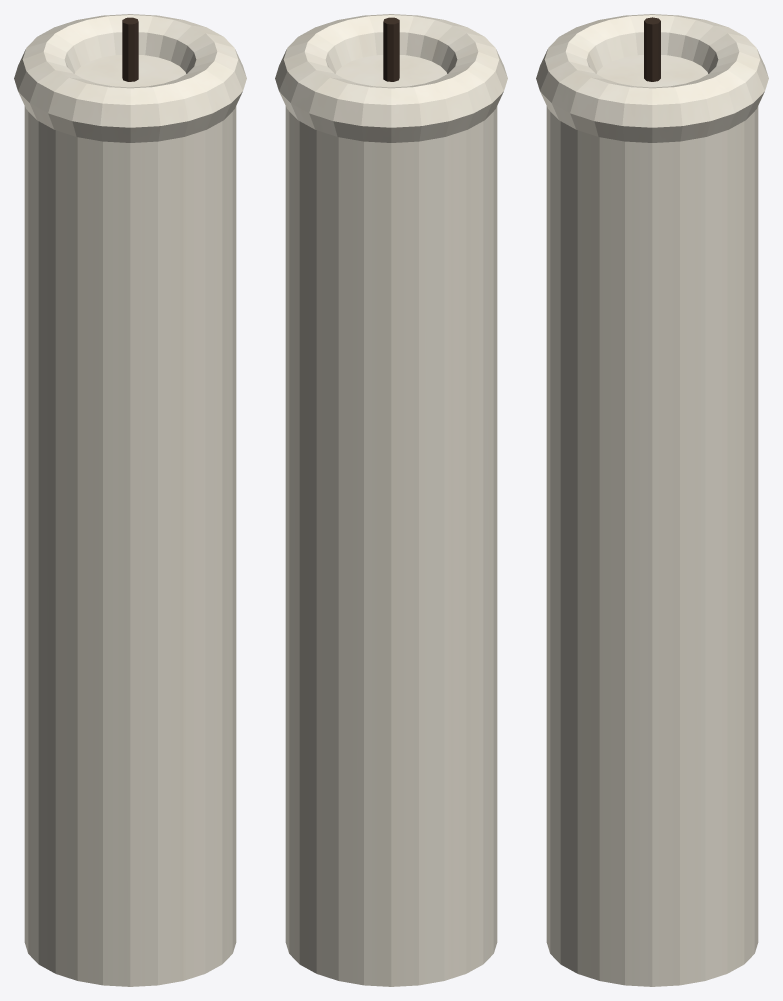
File: candle_tall.glb
The picture shows the model from 3 angles, left to right: view 1: azimuth 30°, elevation 25°; view 2: azimuth 150°, elevation 25°; view 3: azimuth 270°, elevation 25°; orthographic projection.
Parts seen in each view (by area): view 1: CandleBody, Wick; view 2: CandleBody, Wick; view 3: CandleBody, Wick.
Boxes of the visible parts, x1,y1,x2,y2 form: CandleBody: (14,14,246,986); Wick: (122,17,138,81); CandleBody: (275,14,507,986); Wick: (383,17,399,81); CandleBody: (536,14,768,986); Wick: (644,17,660,81).
Bounding box in the file's own units: 0.044 × 0.192 × 0.044.
2 materials, 1 textured.
